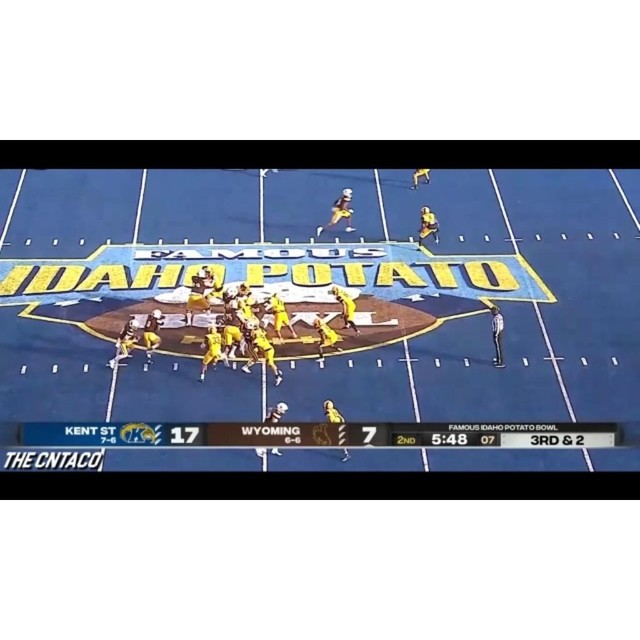american-football-player: (248, 323, 284, 385), (106, 316, 142, 370), (315, 188, 355, 236), (182, 267, 214, 324), (217, 307, 247, 362), (330, 285, 362, 336), (197, 324, 223, 384), (270, 291, 298, 340), (142, 308, 166, 363), (313, 316, 343, 357), (418, 205, 440, 248), (323, 399, 346, 425), (409, 168, 431, 191)
referee: (483, 297, 507, 369)
